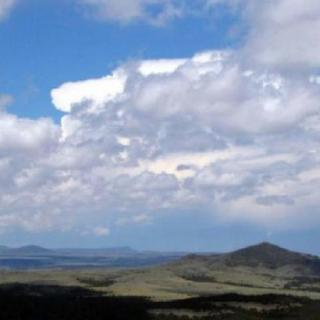Cirrus: (0, 1, 320, 250)
